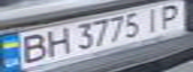3: (72, 20, 96, 51)
5: (121, 9, 148, 38)
7: (106, 12, 130, 43), (90, 16, 112, 47)
B: (12, 30, 51, 64)
H: (39, 26, 72, 57)
I: (139, 3, 166, 34)
P: (154, 1, 190, 31)
